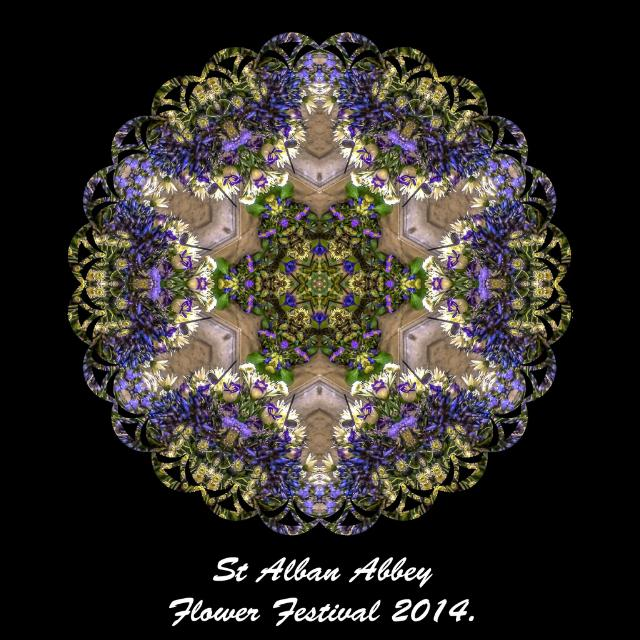Flower: (96, 99, 538, 469)
